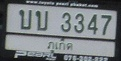txt21: (34, 10, 50, 32), (18, 9, 33, 30)
